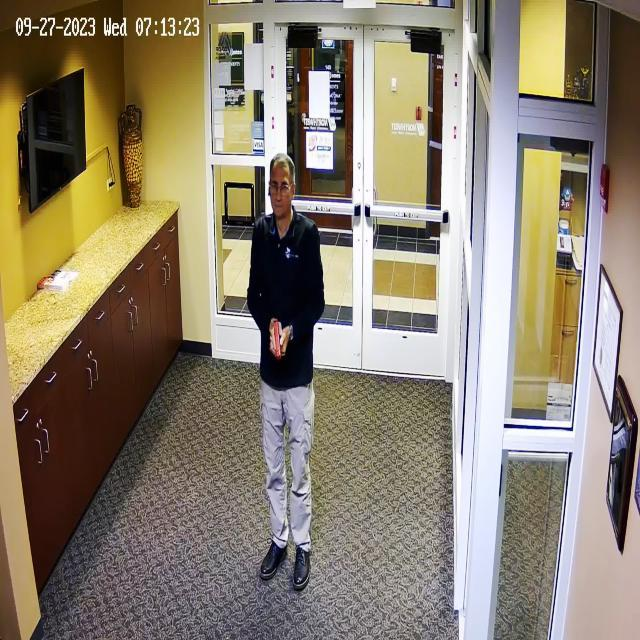Gun: (258, 316, 299, 362)
